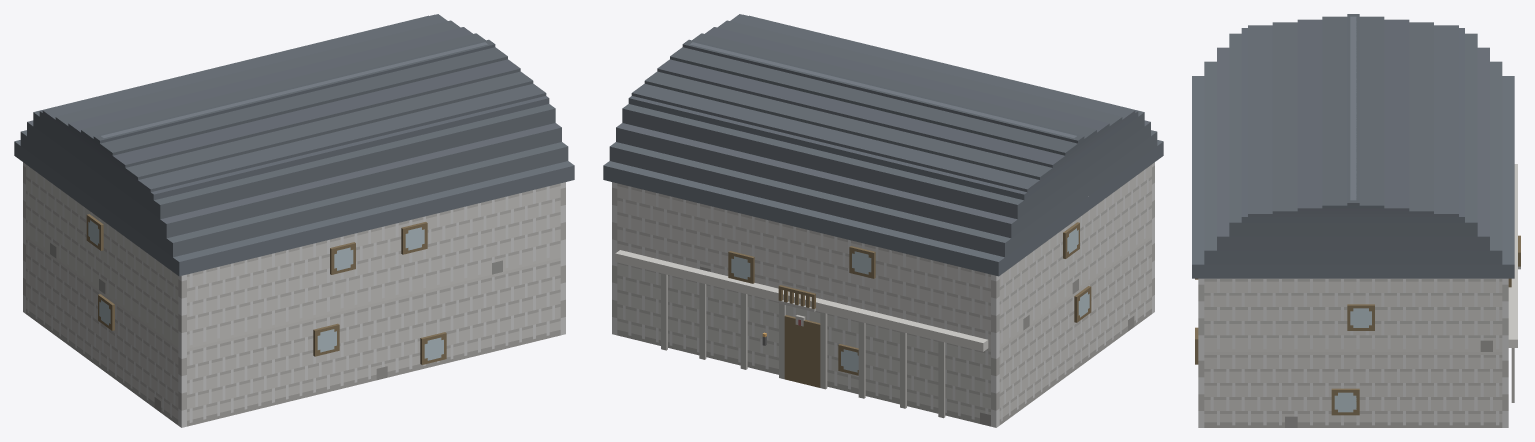
Rendered from ayuntamiento_02.glb.
3 renders of one model, left to right at view 1: azimuth 30°, elevation 25°; view 2: azimuth 150°, elevation 25°; view 3: azimuth 270°, elevation 25°, orthographic. The views are drawn at different scales.
Visible parts, largest first — view 1: ayuntamiento_02; view 2: ayuntamiento_02; view 3: ayuntamiento_02.
Boxes of the visible parts, bbox=[...] form: ayuntamiento_02: bbox=[14, 14, 574, 427]; ayuntamiento_02: bbox=[603, 14, 1163, 427]; ayuntamiento_02: bbox=[1192, 14, 1520, 427].
Bounding box in the file's own units: 14.4 × 8.1 × 10.6.
